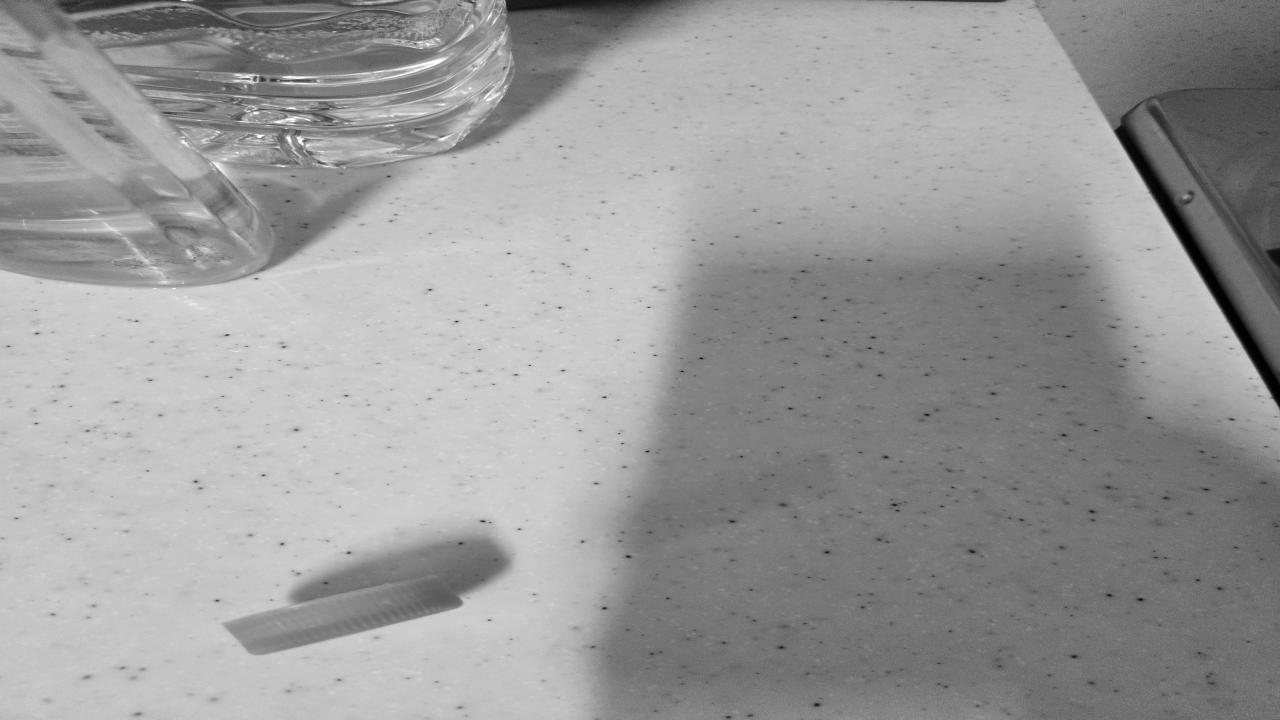bottle_cap: (218, 572, 471, 656)
